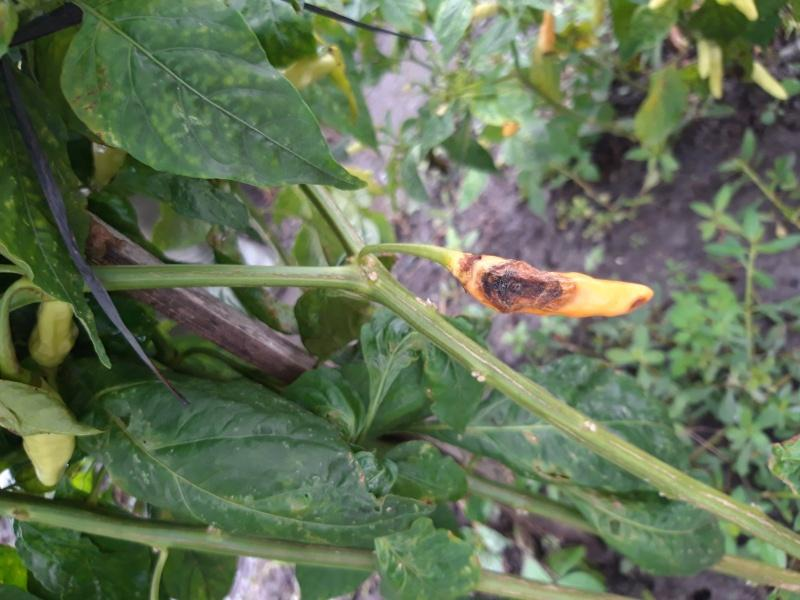antraknosa: (462, 251, 653, 318)
